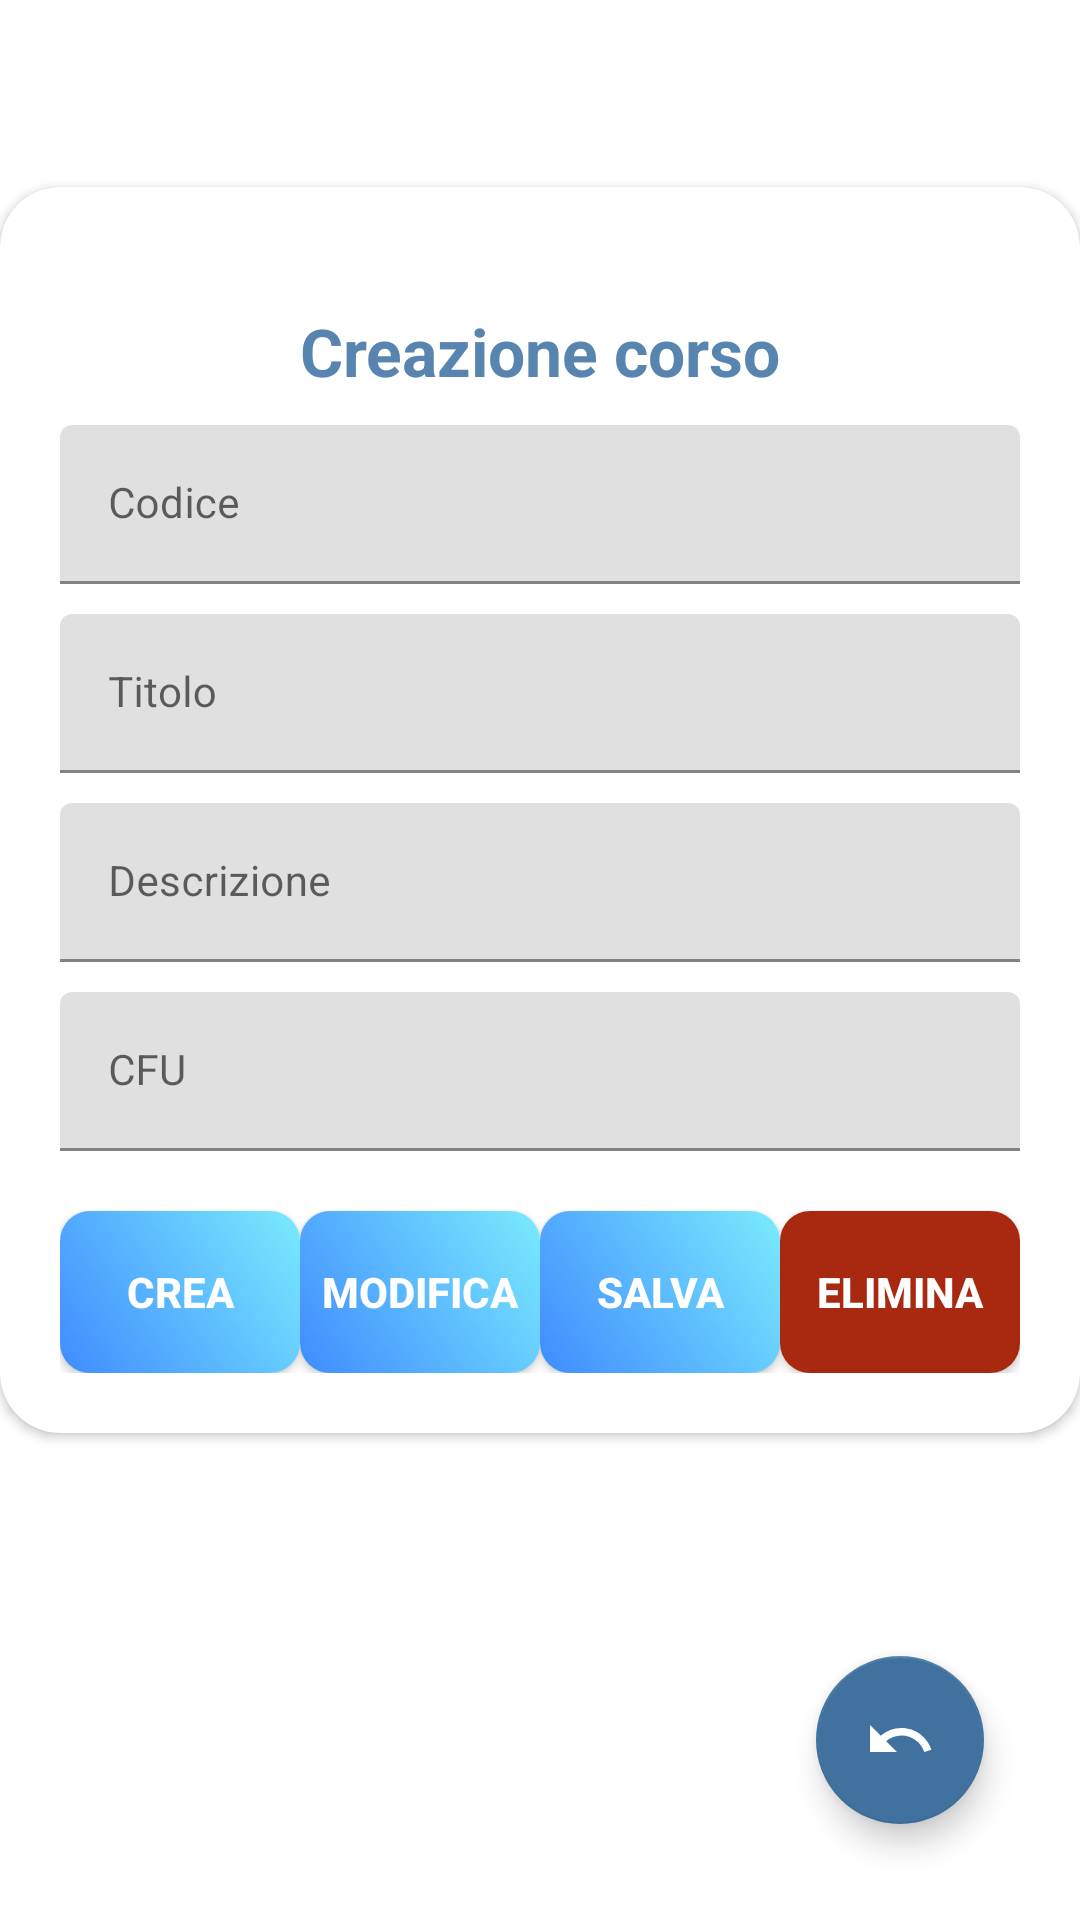

Named icons in this screenshot (1080*1920) and their centers, point (x, y):
back: point (900, 1740)
